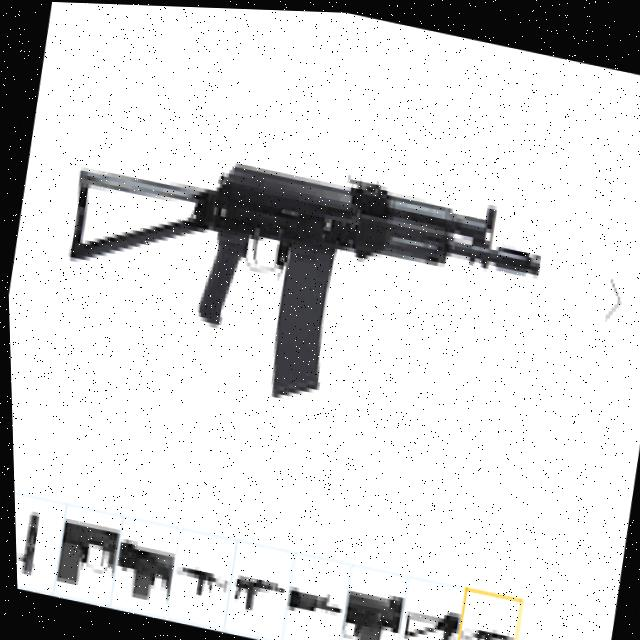firearm: (48, 117, 551, 443)
